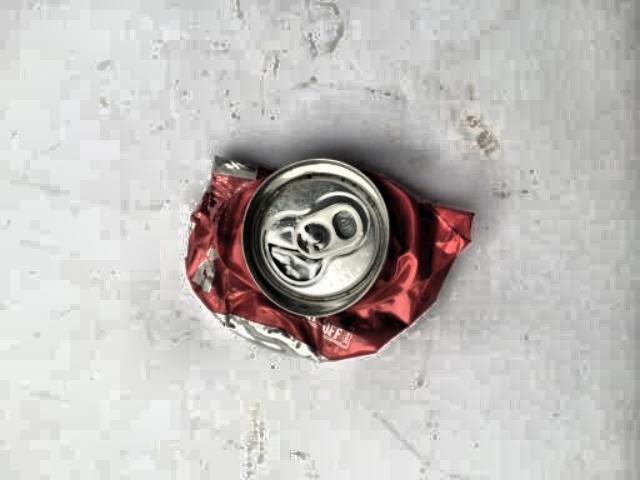Bottles: (157, 126, 480, 375)
